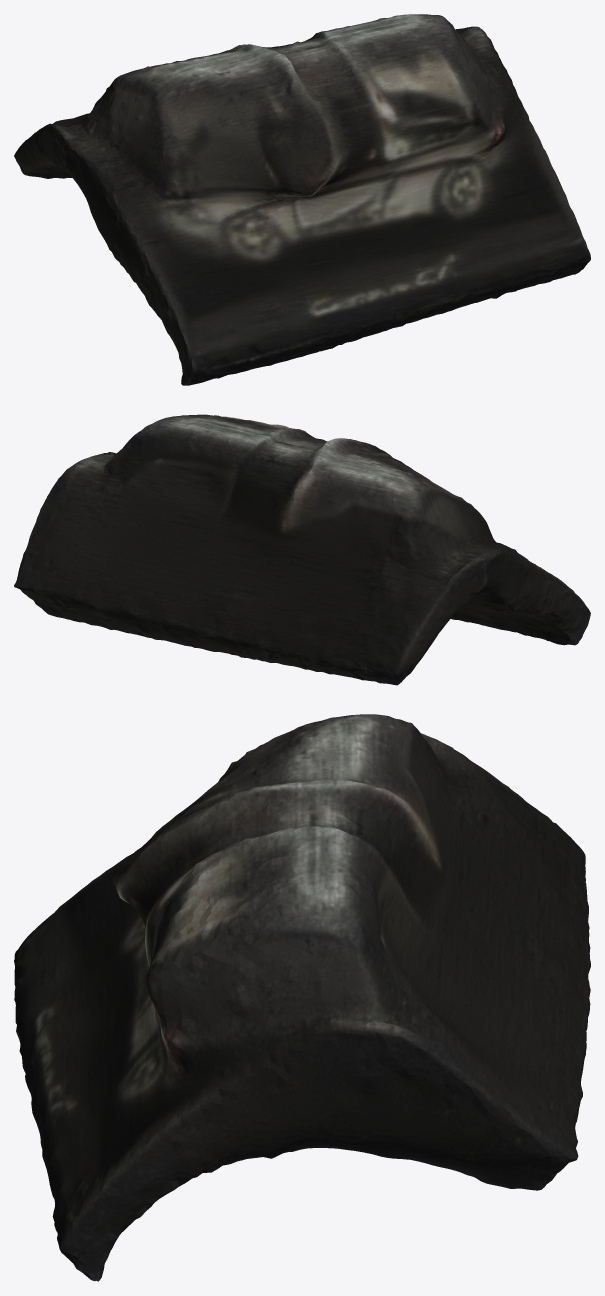
The model's file is IMG_SEG_20.glb.
The picture shows the model from 3 angles, top to bottom: view 1: azimuth 30°, elevation 25°; view 2: azimuth 150°, elevation 25°; view 3: azimuth 270°, elevation 25°; orthographic projection. The views are drawn at different scales.
Size of the model in its own units: 0.9149 by 0.4577 by 0.7066.
Materials: 1 (1 with a texture image).
